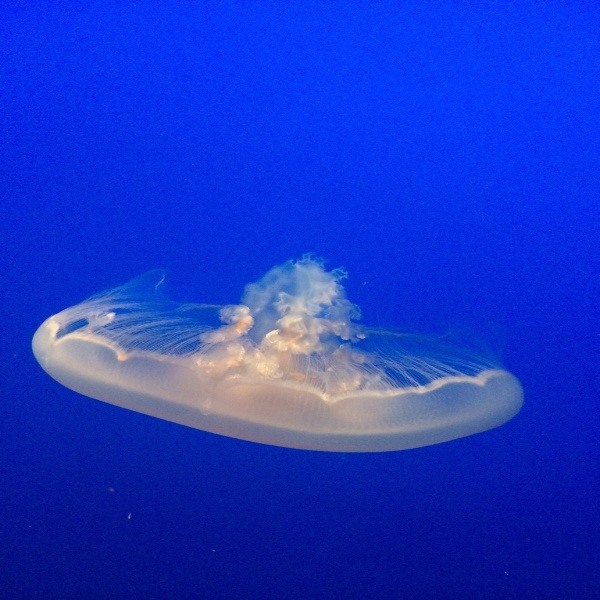Jellyfish: (41, 260, 533, 446)
